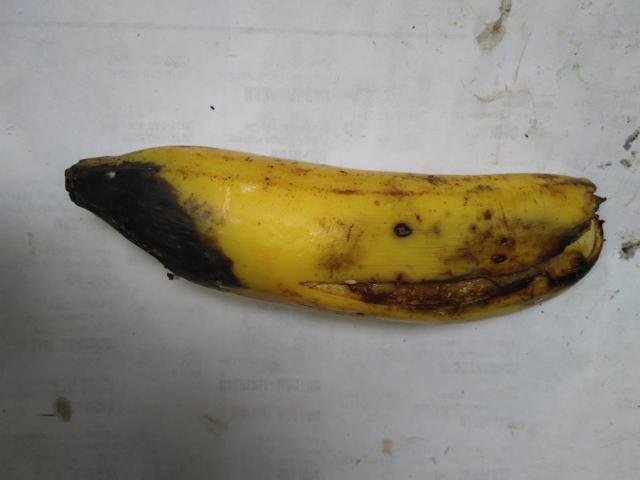rotten: (325, 169, 639, 383), (44, 112, 286, 304)
